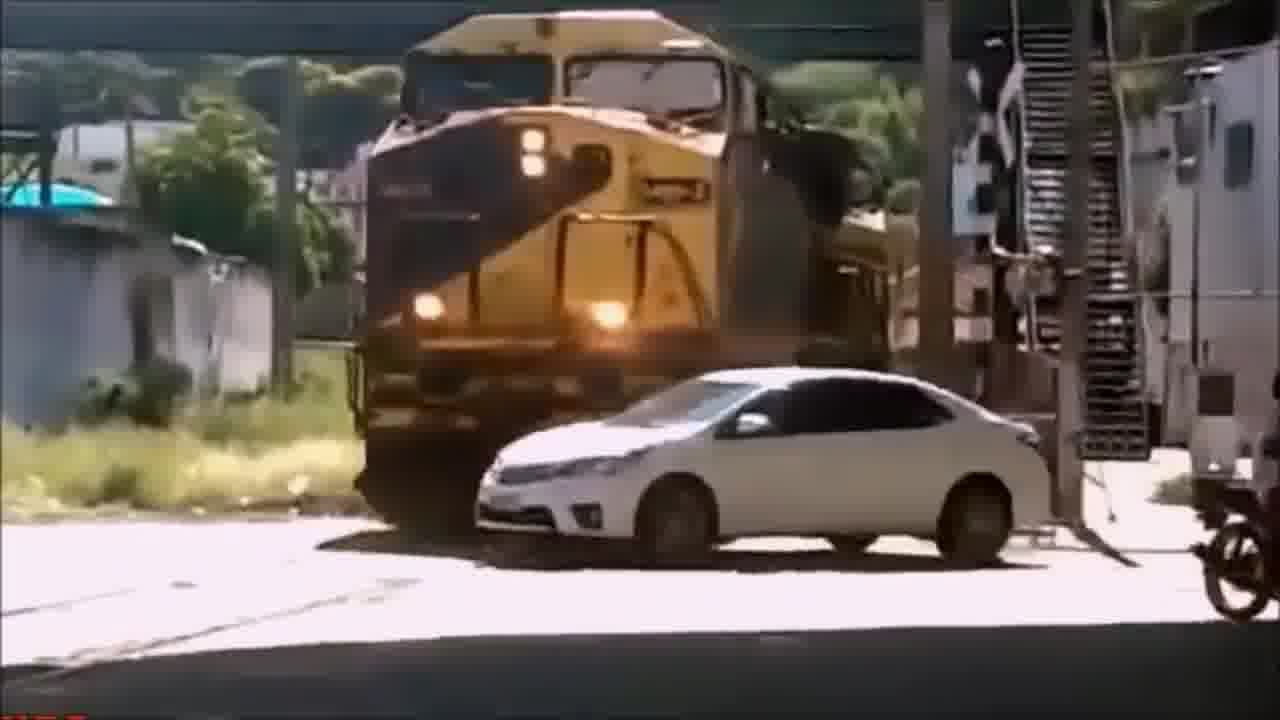crossing railway track: (454, 360, 1096, 566)
